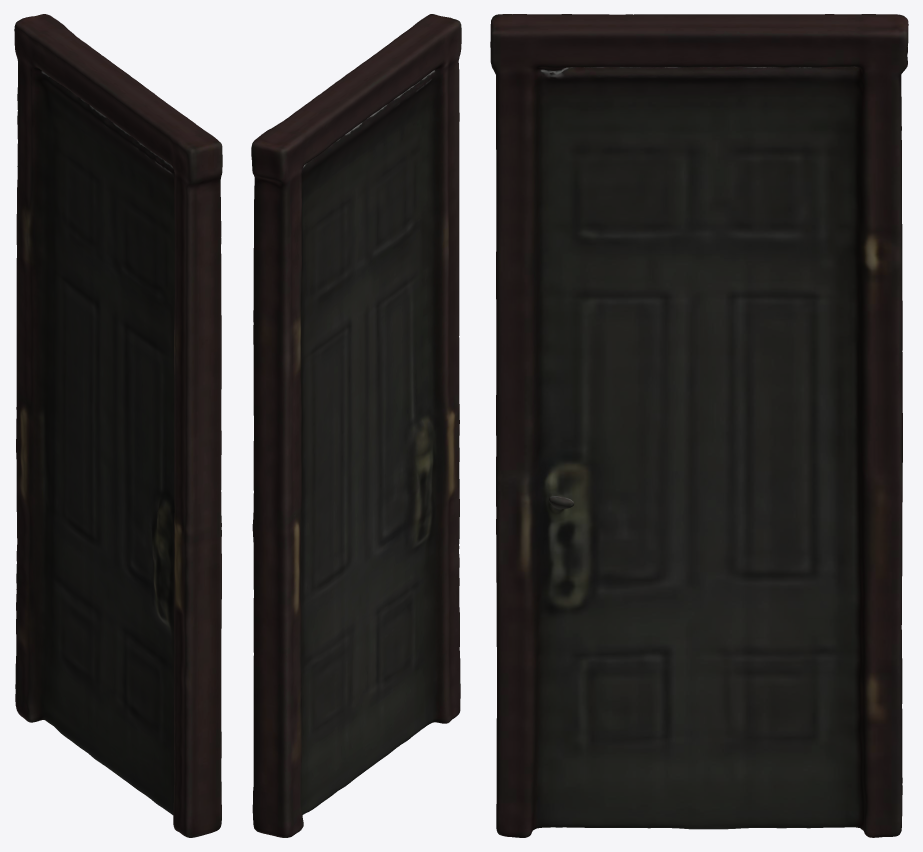
Rendered from 9bf90e89158f_door__3d_asset_0_gl.fbx.
3 views of the same model, side by side, from view 1: azimuth 30°, elevation 25°; view 2: azimuth 150°, elevation 25°; view 3: azimuth 270°, elevation 25° (orthographic). The views are drawn at different scales.
Parts seen in each view (by area): view 1: high_poly; view 2: high_poly; view 3: high_poly.
Part boxes in pixels (x1,y1,x2,y2): high_poly: (14,14,222,837); high_poly: (251,14,461,837); high_poly: (490,14,908,837).
Size of the model in its own units: 8.04 by 100 by 46.9.
